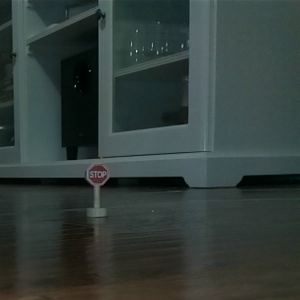stop sign: (82, 161, 110, 220)
